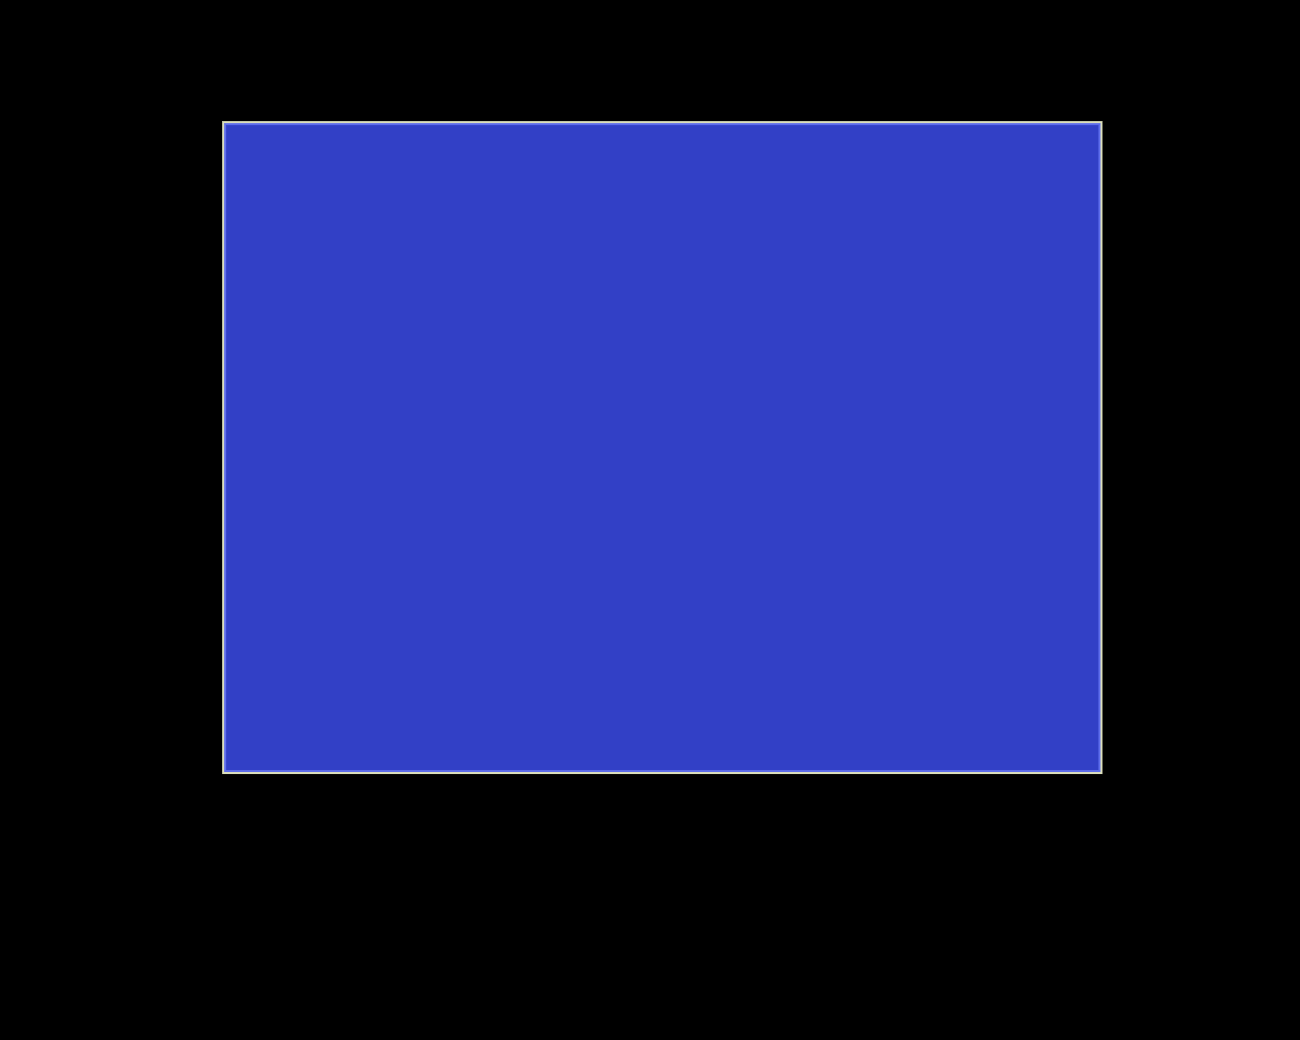Person: (224, 123, 1100, 772)
